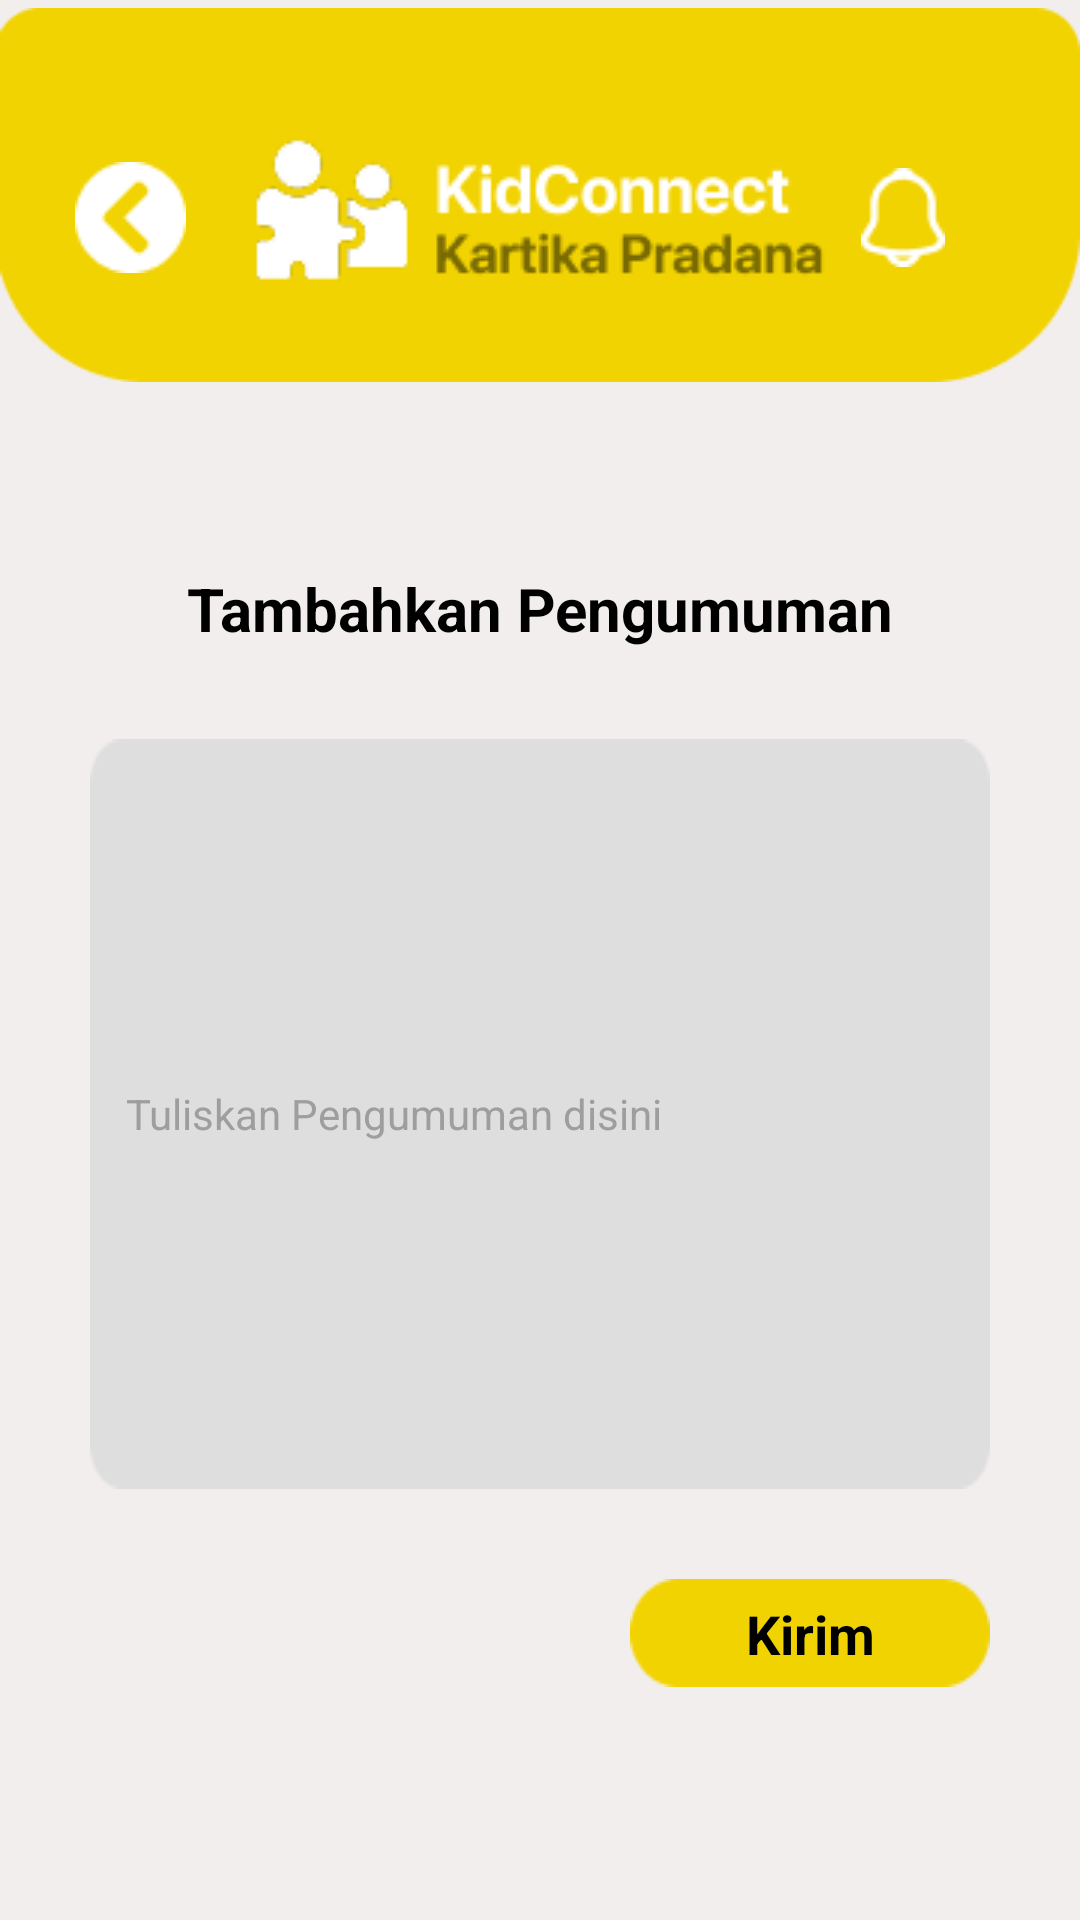

Locate icon controls on the screen. Image size 1080px×1920px, boxes as (x1, y1, x2, y2).
back: (75, 162, 186, 273)
notif: (861, 168, 945, 267)
